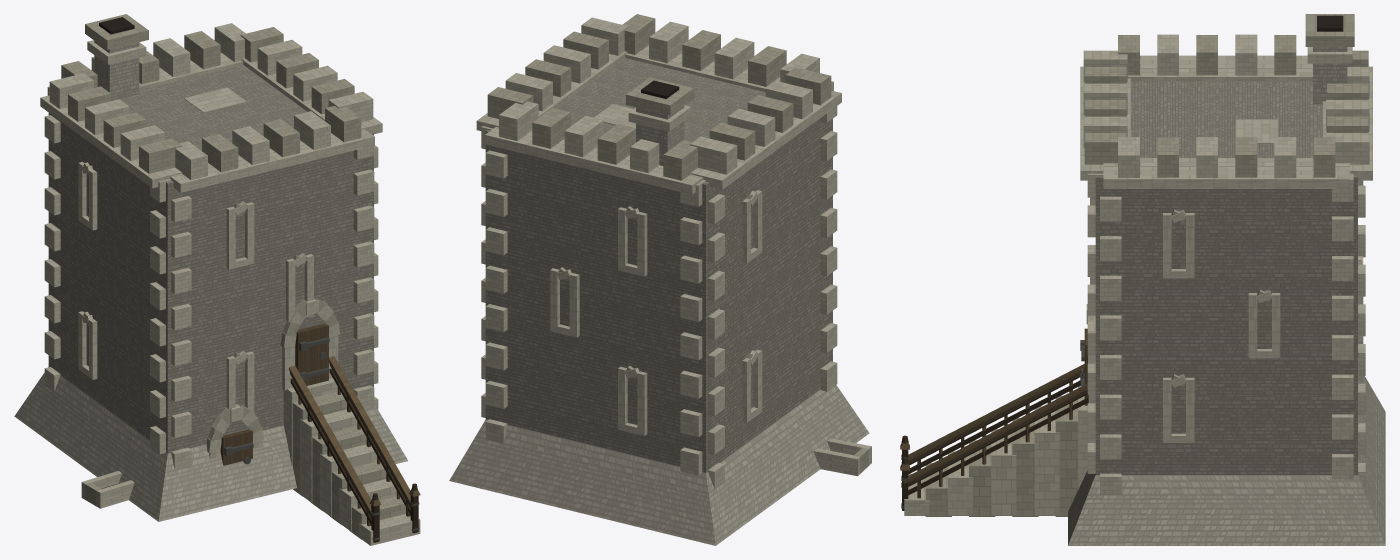
The model's file is rat-4-built.glb.
The picture shows the model from 3 angles, left to right: view 1: azimuth 30°, elevation 25°; view 2: azimuth 150°, elevation 25°; view 3: azimuth 270°, elevation 25°; orthographic projection. The views are drawn at different scales.
Bounding box in the file's own units: 14.26 × 19.08 × 19.24.
Materials: 18 (15 with a texture image).
